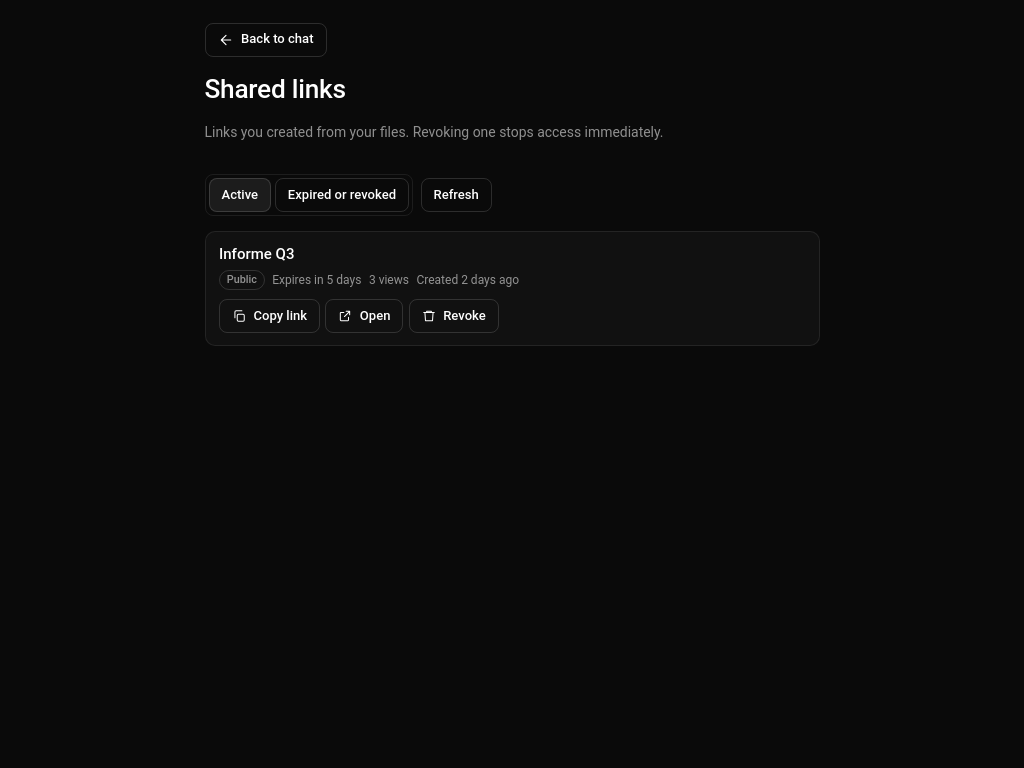
it: SharedLinksView › a failed revoke keeps the dialog with the reason
This screenshot has width=1024, height=768.
Click the button with aria-label "Revoke Informe Q3". click: {"x": 454, "y": 316}
box: [409,299,499,333]
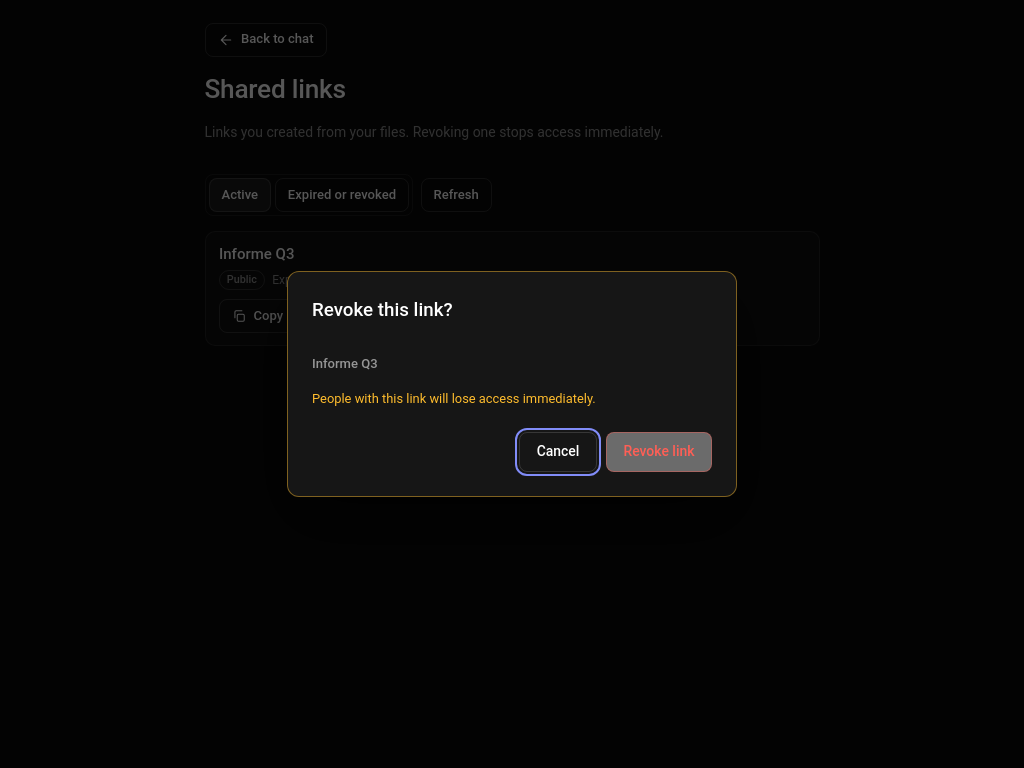
Click the button "Revoke link". click: {"x": 659, "y": 452}
box: [606,432,712,472]
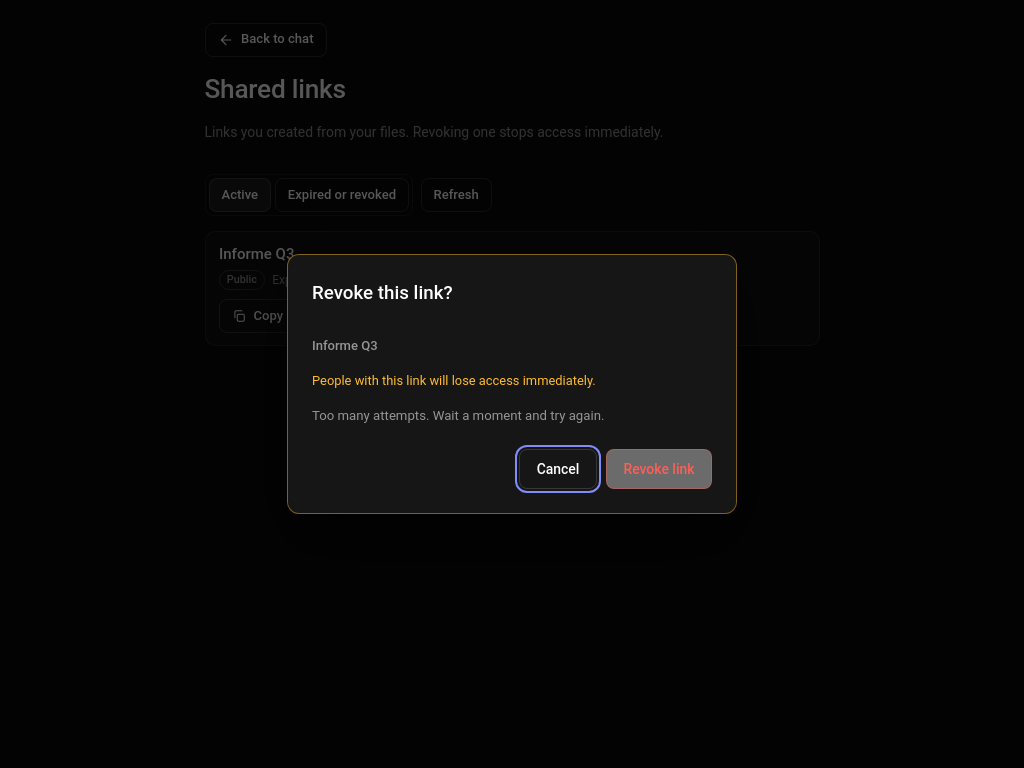
Now the message with test id "artifact-problem" shows "Too many attempts", box [312,408,604,423]
